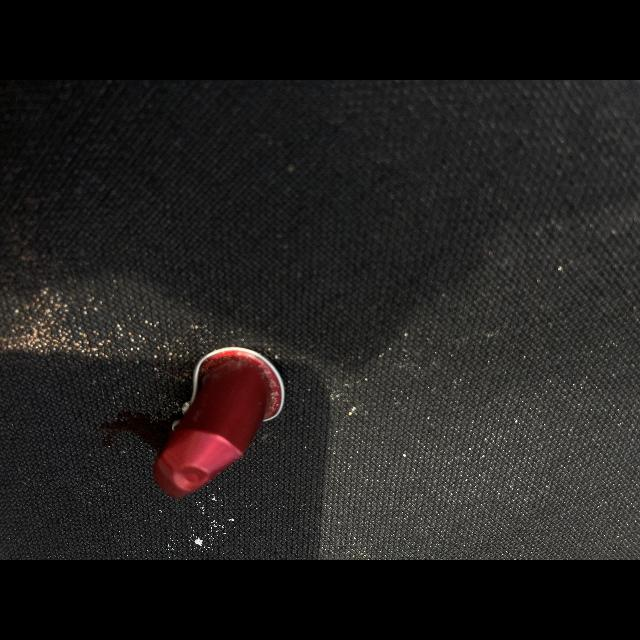damaged_capsule: (146, 326, 324, 512)
